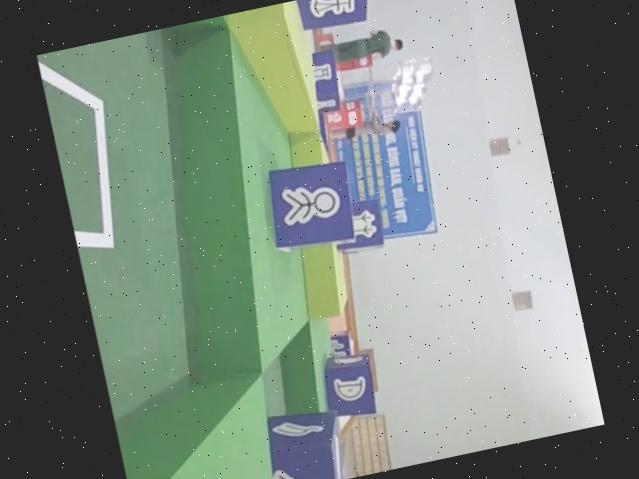R2 Real Blue: (254, 158, 358, 259), (249, 405, 345, 479), (313, 352, 379, 427), (326, 200, 386, 259), (294, 0, 380, 32), (304, 51, 344, 118)
